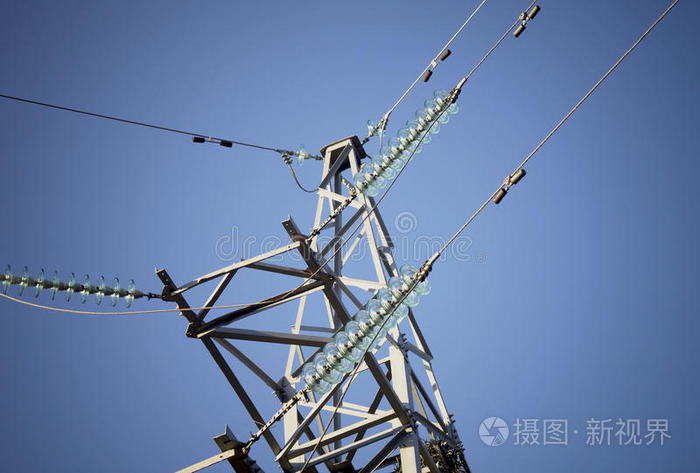insulator: (301, 265, 428, 399), (356, 92, 455, 196), (1, 260, 146, 310)
